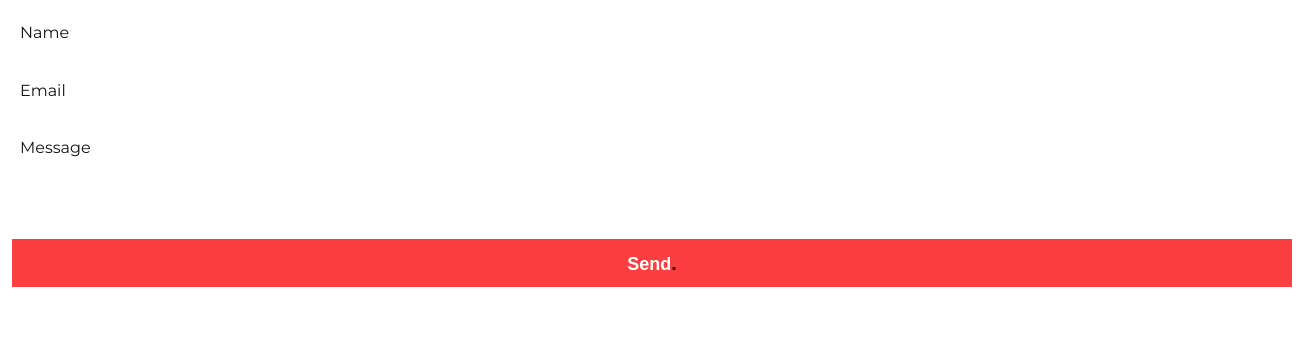
Contact Form › should display min length error when name is invalid
The image size is (1304, 340).
Type "n" into the field with placeholder "Name".
click(652, 33); type("n")  # box x1=12 y1=12 x2=1292 y2=54
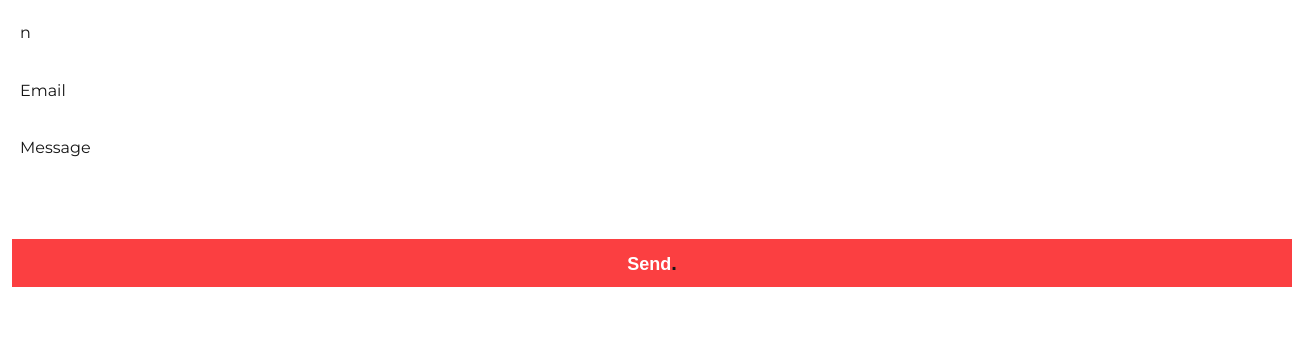
Type "test@mail.com" into the field with placeholder "Email".
click(652, 90); type("test@mail.com")  # box x1=12 y1=70 x2=1292 y2=111
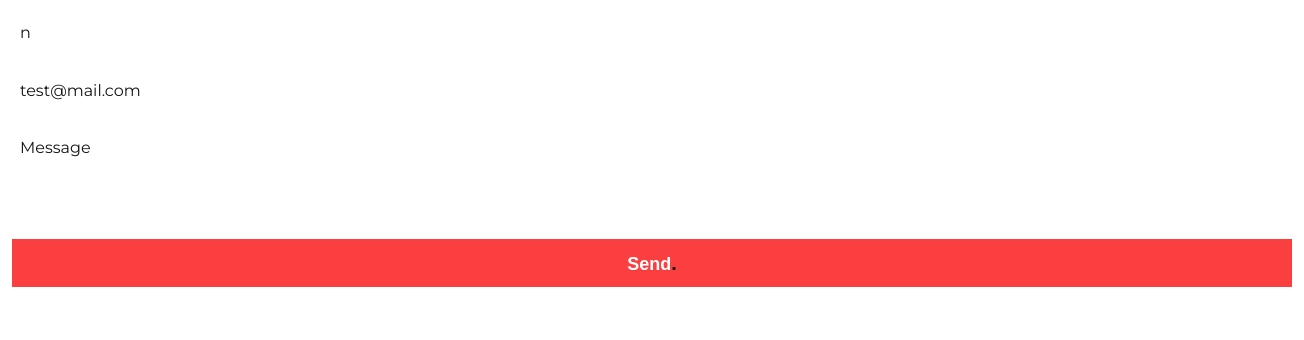
Type "Somewhere in La Mancha, in a place whose name I do not care to remember…" into the text box with placeholder "Message".
click(652, 175); type("Somewhere in La Mancha, in a place whose name I do not care to remember…")  # box x1=12 y1=127 x2=1292 y2=223
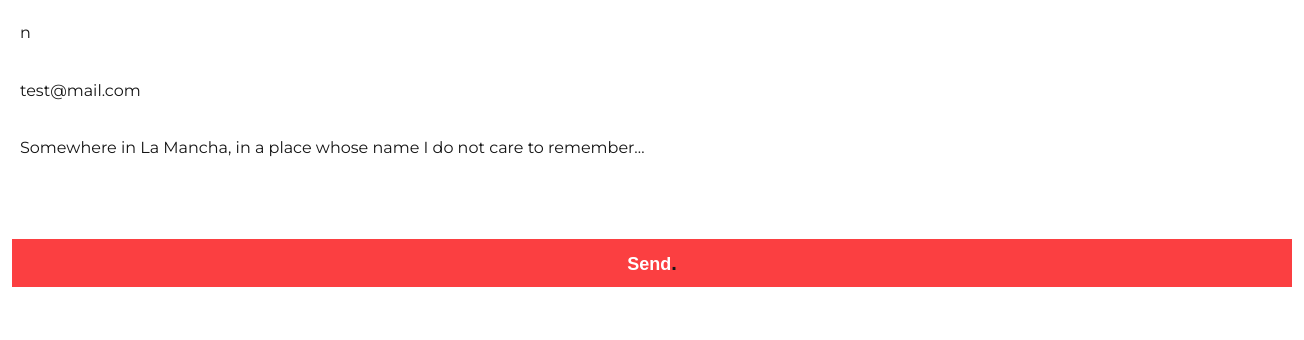
Submit the form from the button, box x1=12 y1=239 x2=1292 y2=287
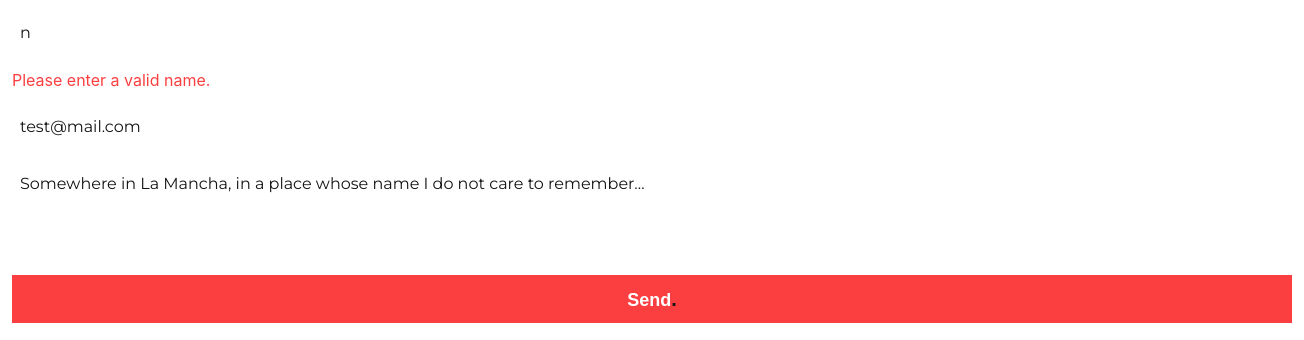
Result: the number of messages is 1 at x1=12 y1=70 x2=210 y2=90
